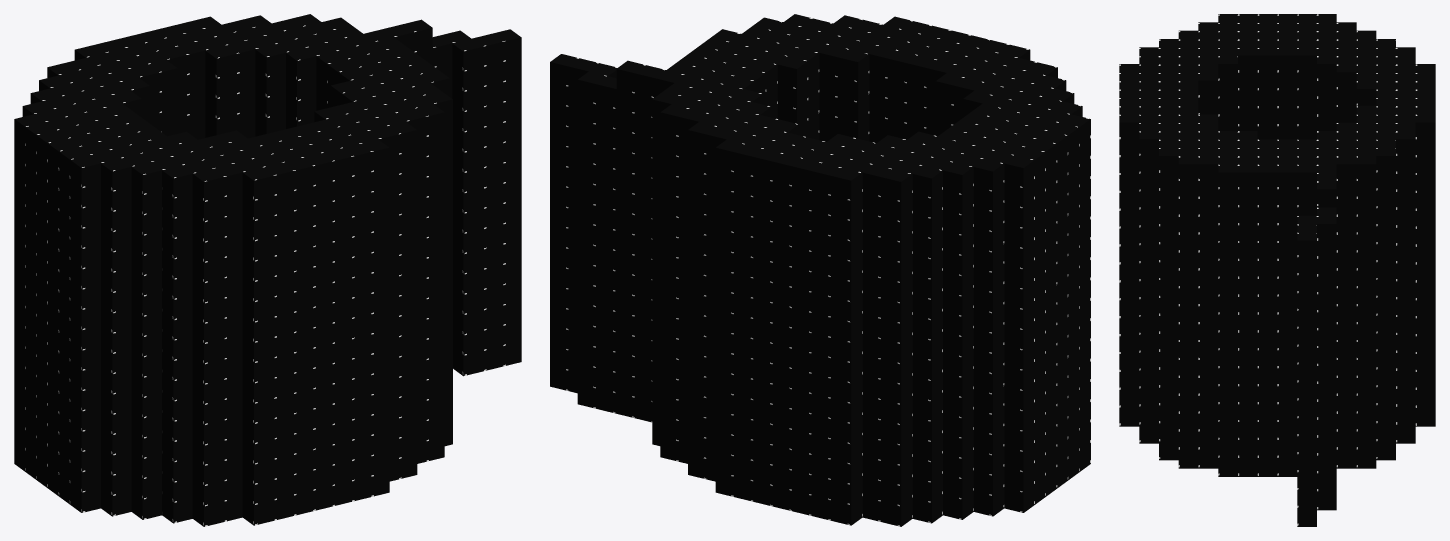
File: cartaigenica_usv.gltf
The picture shows the model from 3 angles, left to right: view 1: azimuth 30°, elevation 25°; view 2: azimuth 150°, elevation 25°; view 3: azimuth 270°, elevation 25°; orthographic projection. The views are drawn at different scales.
Visible parts, largest first — view 1: Layer.1; view 2: Layer.1; view 3: Layer.1.
Boxes of the visible parts, box(x1,y1,x2,y2) form: Layer.1: box(14, 14, 521, 526); Layer.1: box(550, 14, 1090, 526); Layer.1: box(1119, 14, 1435, 526).
Size of the model in its own units: 25 by 17 by 16.
Materials: 1 (1 with a texture image).
